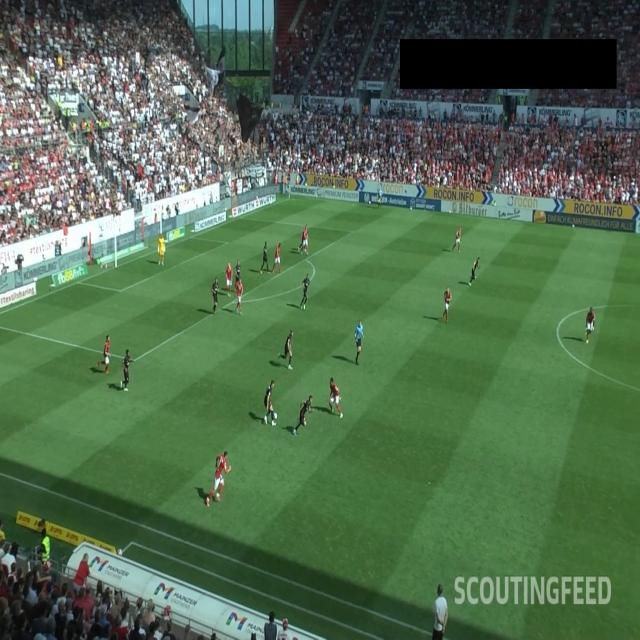ball: (273, 412, 277, 420)
